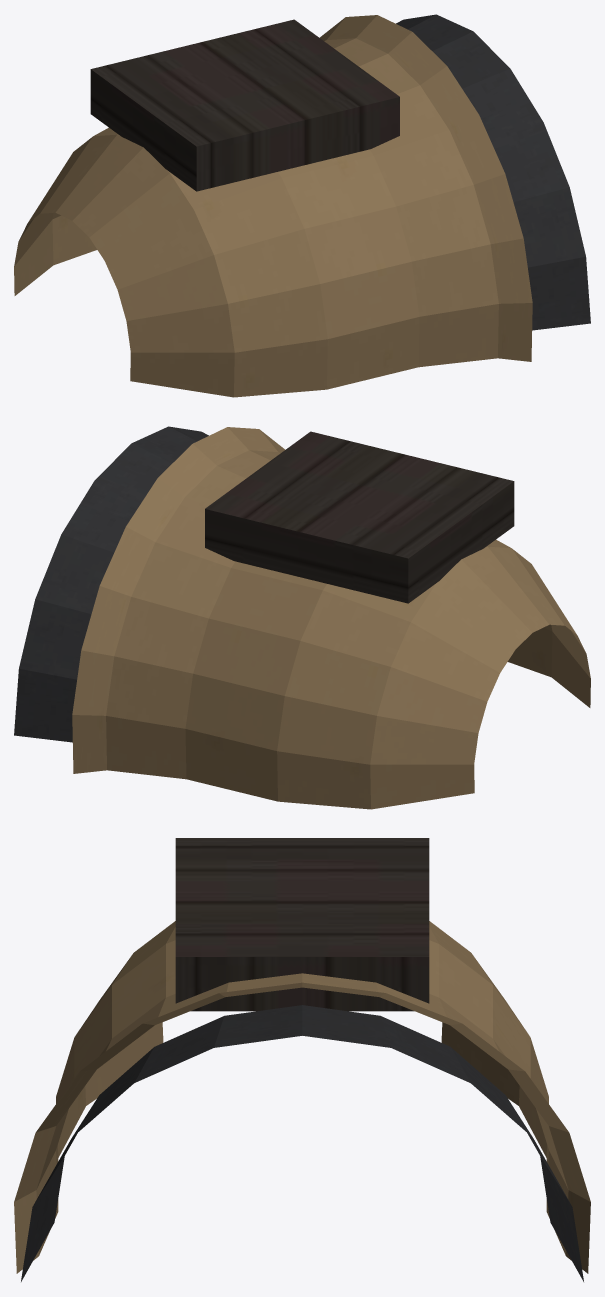
File: eq_present_2_shoulder.glb
3 renders of one model, top to bottom at view 1: azimuth 30°, elevation 25°; view 2: azimuth 150°, elevation 25°; view 3: azimuth 270°, elevation 25°, orthographic. The views are drawn at different scales.
Parts seen in each view (by area): view 1: eq_present_2_shoulder; view 2: eq_present_2_shoulder; view 3: eq_present_2_shoulder.
Boxes of the visible parts, x1,y1,x2,y2 form: eq_present_2_shoulder: [14, 14, 590, 397]; eq_present_2_shoulder: [14, 426, 590, 809]; eq_present_2_shoulder: [14, 838, 590, 1281].
Bounding box in the file's own units: 0.2049 × 0.1186 × 0.2129.
3 materials, 3 textured.
